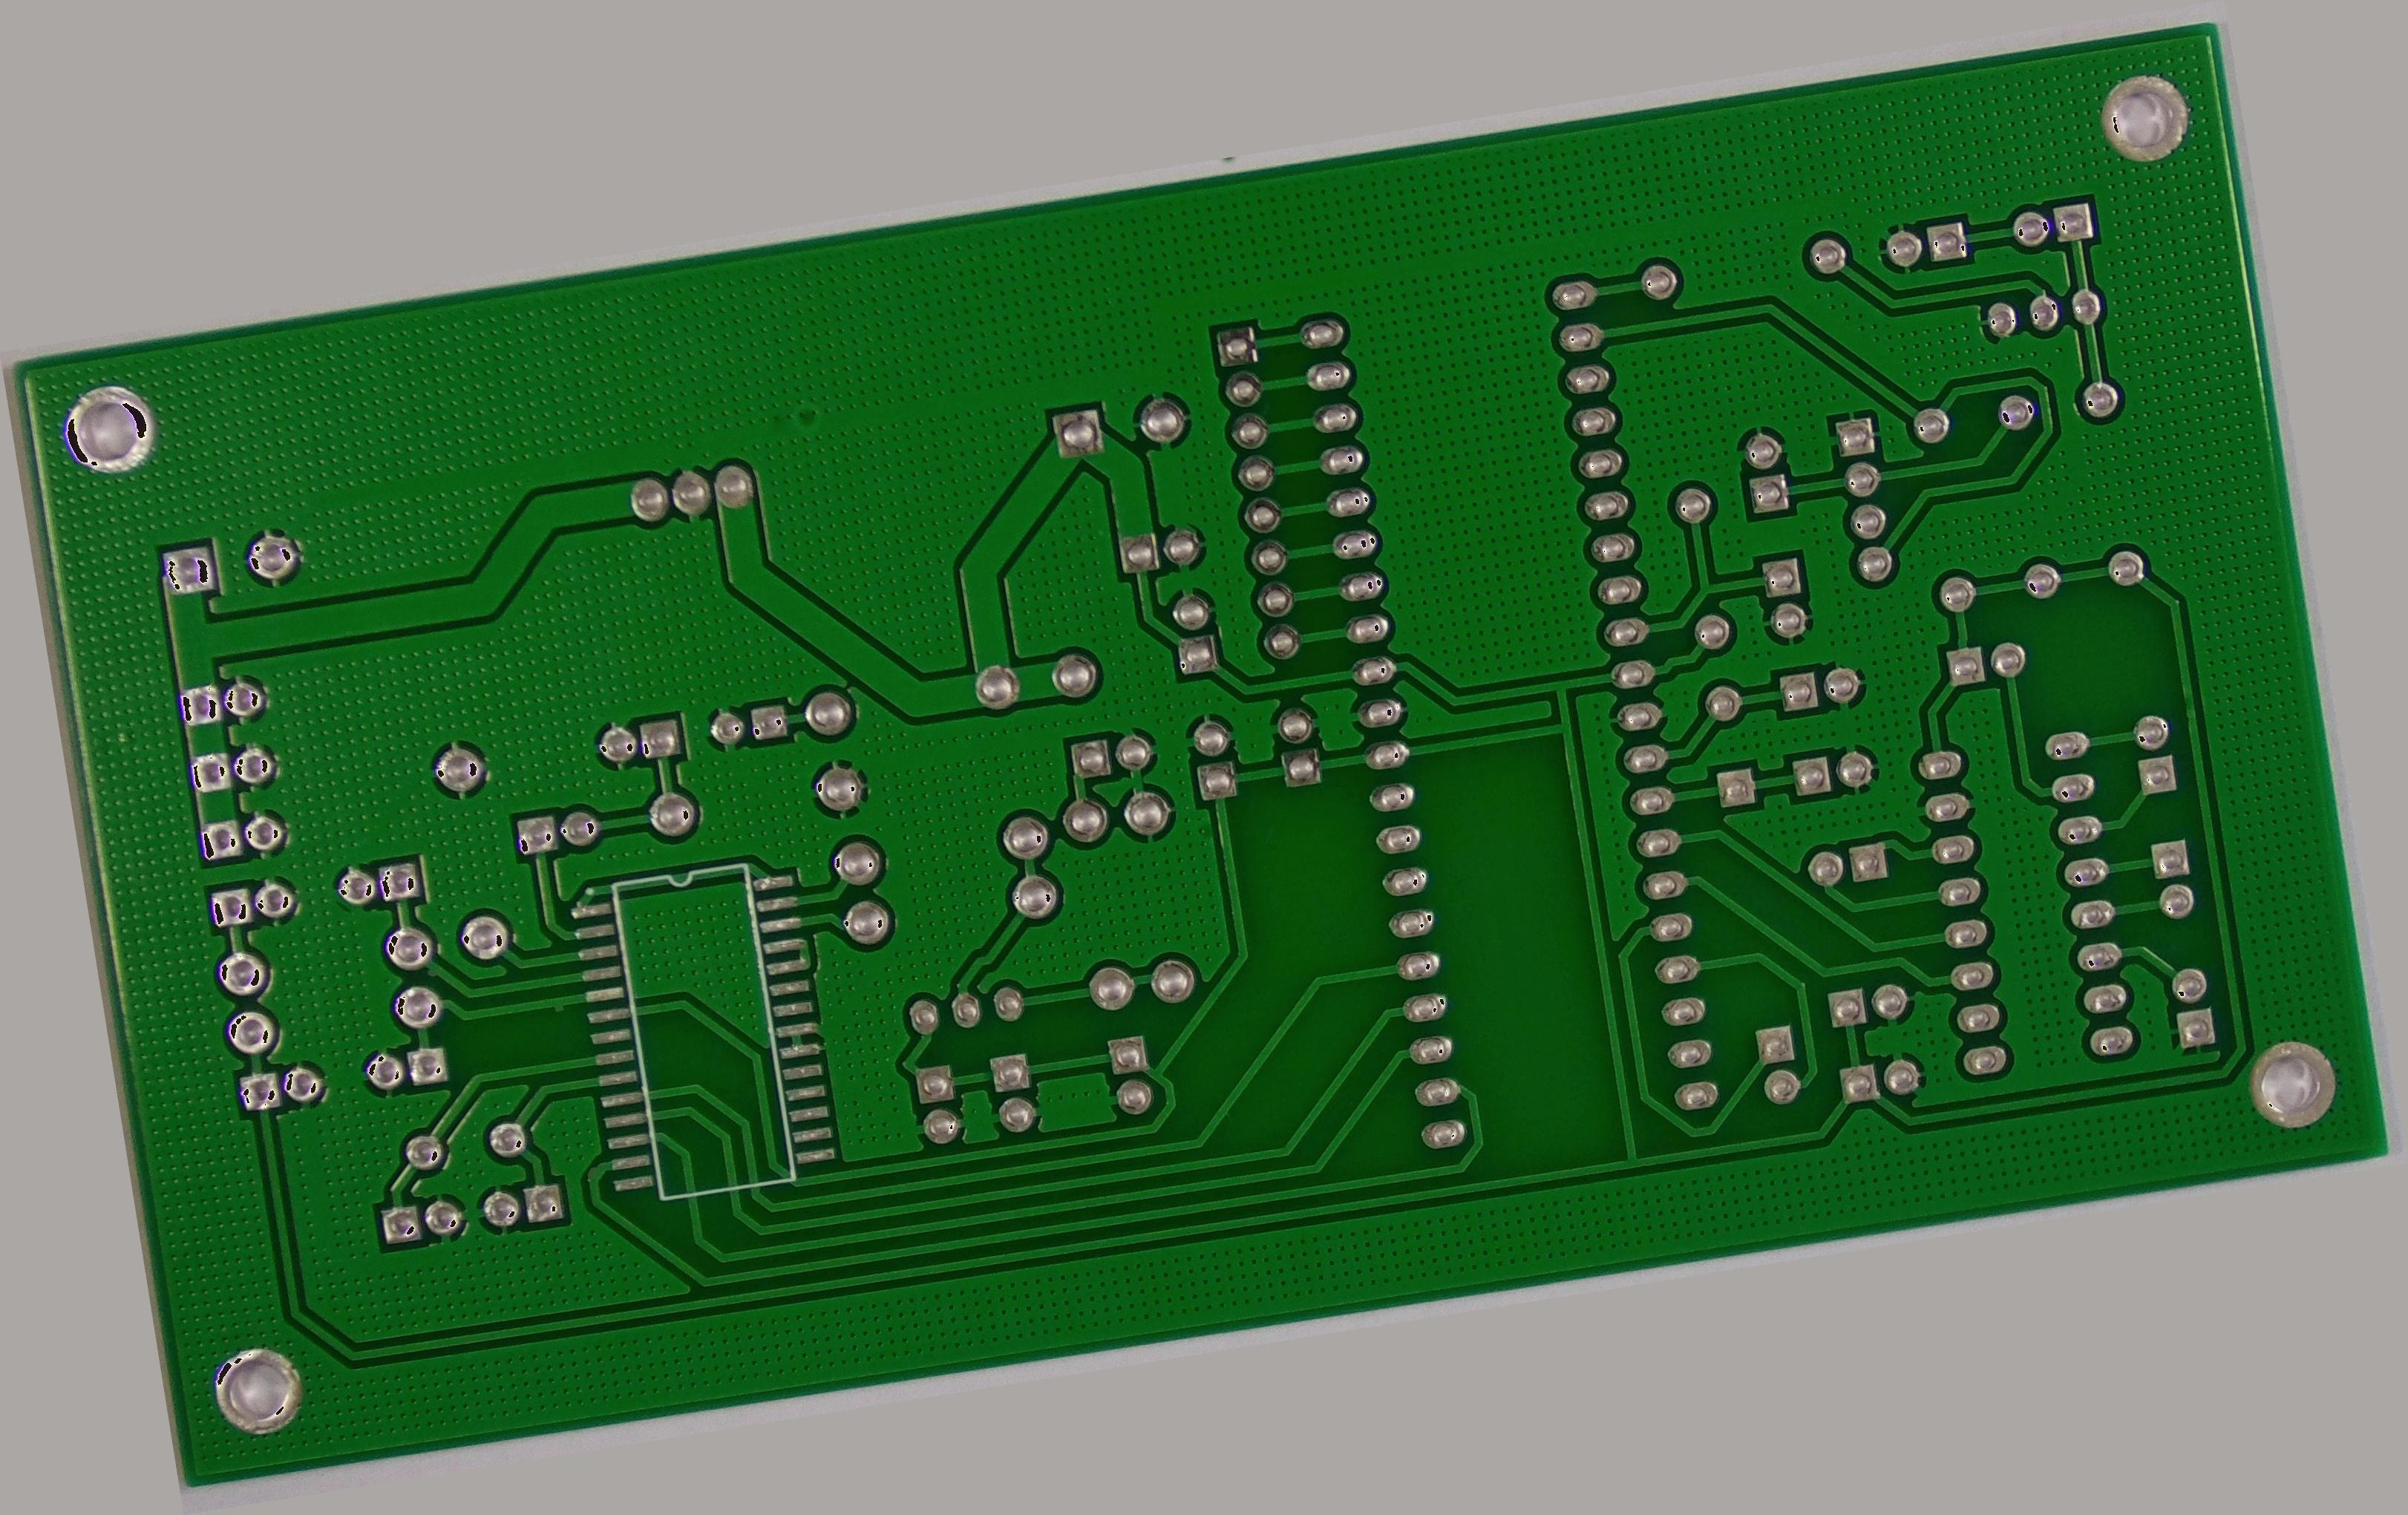spur: (578, 1154, 616, 1192), (543, 991, 574, 1023)
